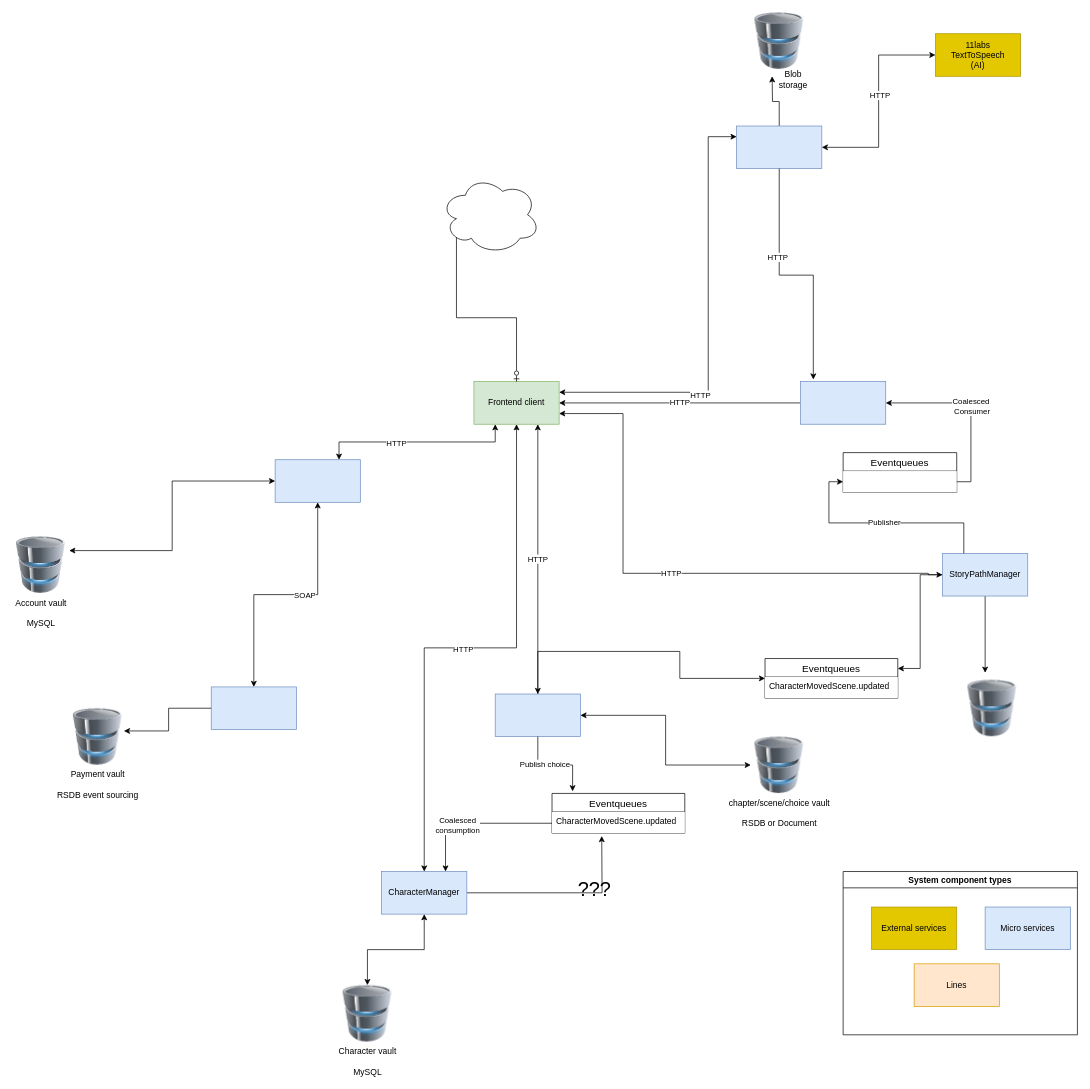
Some shapes in this 1090 by 1089 pixel diagram are drawn without their labels. The shapes that lost their labels are listed below. From the top down, each one's centre as x and y in pixels, then its label:
At (x=779, y=147): "TextToSpeech Service".
At (x=490, y=214): "Token stored in localstorage and state".
At (x=843, y=402): "AIAgent".
At (x=317, y=480): "AccountManager".
At (x=899, y=481): "NewPathChoice.created".
At (x=253, y=708): "PaywallHandler".
At (x=537, y=715): "SceneManager".
At (x=991, y=707): "Graph DB".
